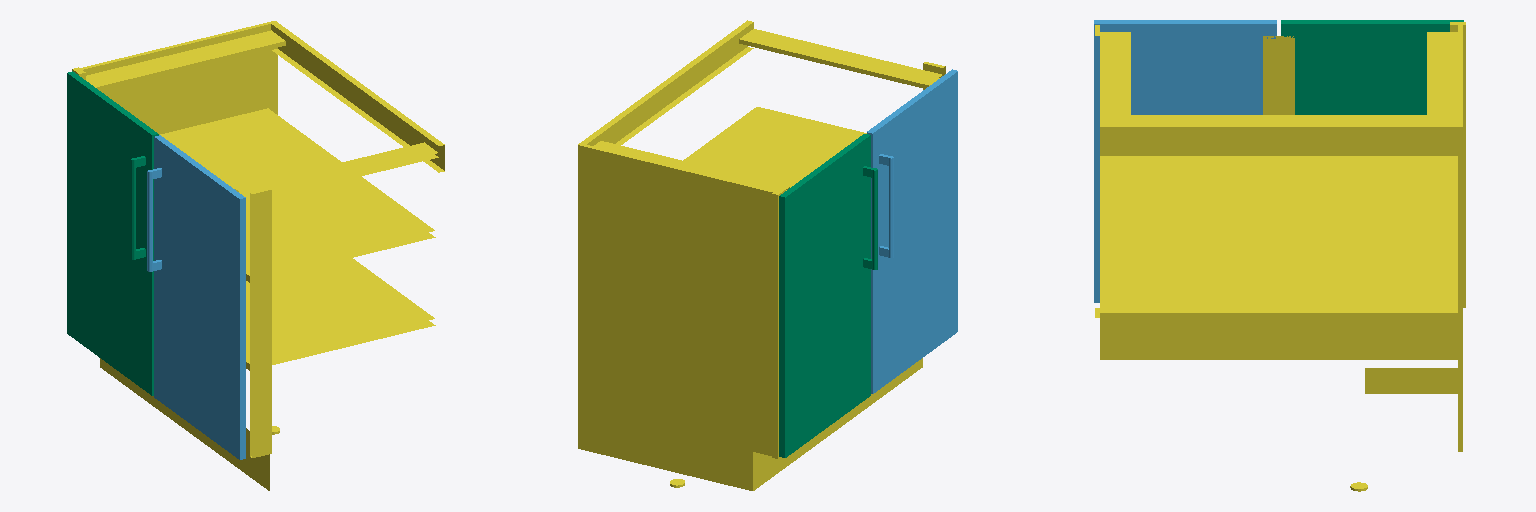
robot.urdf — partnet_1e25501b8930873129a50a2b3c5e5b6:
<?xml version="1.0" ?>
<robot name="partnet_1e25501b8930873129a50a2b3c5e5b6">
	<link name="base"/>
	<link name="link_0">
		<visual name="cabinet_door_surface-8">
			<origin xyz="-0.646305488550088 -0.6707149744033813 -0.4367456519129983"/>
			<geometry>
				<mesh filename="objects_description/45305/textured_objs/original-31.obj"/>
			</geometry>
		</visual>
		<visual name="handle-9">
			<origin xyz="-0.646305488550088 -0.6707149744033813 -0.4367456519129983"/>
			<geometry>
				<mesh filename="objects_description/45305/textured_objs/original-35.obj"/>
			</geometry>
		</visual>
		<visual name="handle-9">
			<origin xyz="-0.646305488550088 -0.6707149744033813 -0.4367456519129983"/>
			<geometry>
				<mesh filename="objects_description/45305/textured_objs/original-33.obj"/>
			</geometry>
		</visual>
		<visual name="handle-9">
			<origin xyz="-0.646305488550088 -0.6707149744033813 -0.4367456519129983"/>
			<geometry>
				<mesh filename="objects_description/45305/textured_objs/original-34.obj"/>
			</geometry>
		</visual>
		<collision>
			<origin xyz="-0.646305488550088 -0.6707149744033813 -0.4367456519129983"/>
			<geometry>
				<mesh filename="objects_description/45305/textured_objs/original-31.obj"/>
			</geometry>
		</collision>
		<collision>
			<origin xyz="-0.646305488550088 -0.6707149744033813 -0.4367456519129983"/>
			<geometry>
				<mesh filename="objects_description/45305/textured_objs/original-35.obj"/>
			</geometry>
		</collision>
		<collision>
			<origin xyz="-0.646305488550088 -0.6707149744033813 -0.4367456519129983"/>
			<geometry>
				<mesh filename="objects_description/45305/textured_objs/original-33.obj"/>
			</geometry>
		</collision>
		<collision>
			<origin xyz="-0.646305488550088 -0.6707149744033813 -0.4367456519129983"/>
			<geometry>
				<mesh filename="objects_description/45305/textured_objs/original-34.obj"/>
			</geometry>
		</collision>
	</link>
	<joint name="joint_0" type="revolute">
		<origin xyz="0.646305488550088 0.6707149744033813 0.4367456519129983"/>
		<axis xyz="0 1 0"/>
		<child link="link_0"/>
		<parent link="link_2"/>
		<limit lower="0.0" upper="1.5833626974092556"/>
	</joint>
	<link name="link_1">
		<visual name="cabinet_door_surface-6">
			<origin xyz="0.6158288327231765 0.3939580023288727 -0.4353039942218538"/>
			<geometry>
				<mesh filename="objects_description/45305/textured_objs/original-25.obj"/>
			</geometry>
		</visual>
		<visual name="handle-7">
			<origin xyz="0.6158288327231765 0.3939580023288727 -0.4353039942218538"/>
			<geometry>
				<mesh filename="objects_description/45305/textured_objs/original-27.obj"/>
			</geometry>
		</visual>
		<visual name="handle-7">
			<origin xyz="0.6158288327231765 0.3939580023288727 -0.4353039942218538"/>
			<geometry>
				<mesh filename="objects_description/45305/textured_objs/original-28.obj"/>
			</geometry>
		</visual>
		<visual name="handle-7">
			<origin xyz="0.6158288327231765 0.3939580023288727 -0.4353039942218538"/>
			<geometry>
				<mesh filename="objects_description/45305/textured_objs/original-29.obj"/>
			</geometry>
		</visual>
		<collision>
			<origin xyz="0.6158288327231765 0.3939580023288727 -0.4353039942218538"/>
			<geometry>
				<mesh filename="objects_description/45305/textured_objs/original-25.obj"/>
			</geometry>
		</collision>
		<collision>
			<origin xyz="0.6158288327231765 0.3939580023288727 -0.4353039942218538"/>
			<geometry>
				<mesh filename="objects_description/45305/textured_objs/original-27.obj"/>
			</geometry>
		</collision>
		<collision>
			<origin xyz="0.6158288327231765 0.3939580023288727 -0.4353039942218538"/>
			<geometry>
				<mesh filename="objects_description/45305/textured_objs/original-28.obj"/>
			</geometry>
		</collision>
		<collision>
			<origin xyz="0.6158288327231765 0.3939580023288727 -0.4353039942218538"/>
			<geometry>
				<mesh filename="objects_description/45305/textured_objs/original-29.obj"/>
			</geometry>
		</collision>
	</link>
	<joint name="joint_1" type="revolute">
		<origin xyz="-0.6158288327231765 -0.3939580023288727 0.4353039942218538"/>
		<axis xyz="0 -1 0"/>
		<child link="link_1"/>
		<parent link="link_2"/>
		<limit lower="0.0" upper="1.5833626974092556"/>
	</joint>
	<link name="link_2">
		<visual name="vertical_side_panel-15">
			<origin xyz="0 0 0"/>
			<geometry>
				<mesh filename="objects_description/45305/textured_objs/original-9.obj"/>
			</geometry>
		</visual>
		<visual name="vertical_side_panel-16">
			<origin xyz="0 0 0"/>
			<geometry>
				<mesh filename="objects_description/45305/textured_objs/original-21.obj"/>
			</geometry>
		</visual>
		<visual name="back_panel-17">
			<origin xyz="0 0 0"/>
			<geometry>
				<mesh filename="objects_description/45305/textured_objs/original-16.obj"/>
			</geometry>
		</visual>
		<visual name="bottom_panel-18">
			<origin xyz="0 0 0"/>
			<geometry>
				<mesh filename="objects_description/45305/textured_objs/original-12.obj"/>
			</geometry>
		</visual>
		<visual name="frame_vertical_bar-19">
			<origin xyz="0 0 0"/>
			<geometry>
				<mesh filename="objects_description/45305/textured_objs/original-2.obj"/>
			</geometry>
		</visual>
		<visual name="frame_vertical_bar-20">
			<origin xyz="0 0 0"/>
			<geometry>
				<mesh filename="objects_description/45305/textured_objs/original-4.obj"/>
			</geometry>
		</visual>
		<visual name="frame_vertical_bar-21">
			<origin xyz="0 0 0"/>
			<geometry>
				<mesh filename="objects_description/45305/textured_objs/original-6.obj"/>
			</geometry>
		</visual>
		<visual name="frame_horizontal_bar-22">
			<origin xyz="0 0 0"/>
			<geometry>
				<mesh filename="objects_description/45305/textured_objs/original-15.obj"/>
			</geometry>
		</visual>
		<visual name="frame_horizontal_bar-23">
			<origin xyz="0 0 0"/>
			<geometry>
				<mesh filename="objects_description/45305/textured_objs/original-5.obj"/>
			</geometry>
		</visual>
		<visual name="frame_horizontal_bar-24">
			<origin xyz="0 0 0"/>
			<geometry>
				<mesh filename="objects_description/45305/textured_objs/original-3.obj"/>
			</geometry>
		</visual>
		<visual name="other_leaf-32">
			<origin xyz="0 0 0"/>
			<geometry>
				<mesh filename="objects_description/45305/textured_objs/original-13.obj"/>
			</geometry>
		</visual>
		<visual name="other_leaf-31">
			<origin xyz="0 0 0"/>
			<geometry>
				<mesh filename="objects_description/45305/textured_objs/original-17.obj"/>
			</geometry>
		</visual>
		<visual name="other_leaf-30">
			<origin xyz="0 0 0"/>
			<geometry>
				<mesh filename="objects_description/45305/textured_objs/original-23.obj"/>
			</geometry>
		</visual>
		<visual name="other_leaf-29">
			<origin xyz="0 0 0"/>
			<geometry>
				<mesh filename="objects_description/45305/textured_objs/original-14.obj"/>
			</geometry>
		</visual>
		<visual name="frame_vertical_bar-33">
			<origin xyz="0 0 0"/>
			<geometry>
				<mesh filename="objects_description/45305/textured_objs/original-20.obj"/>
			</geometry>
		</visual>
		<visual name="frame_vertical_bar-34">
			<origin xyz="0 0 0"/>
			<geometry>
				<mesh filename="objects_description/45305/textured_objs/original-8.obj"/>
			</geometry>
		</visual>
		<visual name="other_leaf-36">
			<origin xyz="0 0 0"/>
			<geometry>
				<mesh filename="objects_description/45305/textured_objs/original-36.obj"/>
			</geometry>
		</visual>
		<visual name="base_side_panel-11">
			<origin xyz="0 0 0"/>
			<geometry>
				<mesh filename="objects_description/45305/textured_objs/original-22.obj"/>
			</geometry>
		</visual>
		<visual name="base_side_panel-12">
			<origin xyz="0 0 0"/>
			<geometry>
				<mesh filename="objects_description/45305/textured_objs/original-18.obj"/>
			</geometry>
		</visual>
		<visual name="base_side_panel-13">
			<origin xyz="0 0 0"/>
			<geometry>
				<mesh filename="objects_description/45305/textured_objs/original-10.obj"/>
			</geometry>
		</visual>
		<visual name="base_side_panel-14">
			<origin xyz="0 0 0"/>
			<geometry>
				<mesh filename="objects_description/45305/textured_objs/original-11.obj"/>
			</geometry>
		</visual>
		<collision>
			<origin xyz="0 0 0"/>
			<geometry>
				<mesh filename="objects_description/45305/textured_objs/original-9.obj"/>
			</geometry>
		</collision>
		<collision>
			<origin xyz="0 0 0"/>
			<geometry>
				<mesh filename="objects_description/45305/textured_objs/original-21.obj"/>
			</geometry>
		</collision>
		<collision>
			<origin xyz="0 0 0"/>
			<geometry>
				<mesh filename="objects_description/45305/textured_objs/original-16.obj"/>
			</geometry>
		</collision>
		<collision>
			<origin xyz="0 0 0"/>
			<geometry>
				<mesh filename="objects_description/45305/textured_objs/original-12.obj"/>
			</geometry>
		</collision>
		<collision>
			<origin xyz="0 0 0"/>
			<geometry>
				<mesh filename="objects_description/45305/textured_objs/original-2.obj"/>
			</geometry>
		</collision>
		<collision>
			<origin xyz="0 0 0"/>
			<geometry>
				<mesh filename="objects_description/45305/textured_objs/original-4.obj"/>
			</geometry>
		</collision>
		<collision>
			<origin xyz="0 0 0"/>
			<geometry>
				<mesh filename="objects_description/45305/textured_objs/original-6.obj"/>
			</geometry>
		</collision>
		<collision>
			<origin xyz="0 0 0"/>
			<geometry>
				<mesh filename="objects_description/45305/textured_objs/original-15.obj"/>
			</geometry>
		</collision>
		<collision>
			<origin xyz="0 0 0"/>
			<geometry>
				<mesh filename="objects_description/45305/textured_objs/original-5.obj"/>
			</geometry>
		</collision>
		<collision>
			<origin xyz="0 0 0"/>
			<geometry>
				<mesh filename="objects_description/45305/textured_objs/original-3.obj"/>
			</geometry>
		</collision>
		<collision>
			<origin xyz="0 0 0"/>
			<geometry>
				<mesh filename="objects_description/45305/textured_objs/original-13.obj"/>
			</geometry>
		</collision>
		<collision>
			<origin xyz="0 0 0"/>
			<geometry>
				<mesh filename="objects_description/45305/textured_objs/original-17.obj"/>
			</geometry>
		</collision>
		<collision>
			<origin xyz="0 0 0"/>
			<geometry>
				<mesh filename="objects_description/45305/textured_objs/original-23.obj"/>
			</geometry>
		</collision>
		<collision>
			<origin xyz="0 0 0"/>
			<geometry>
				<mesh filename="objects_description/45305/textured_objs/original-14.obj"/>
			</geometry>
		</collision>
		<collision>
			<origin xyz="0 0 0"/>
			<geometry>
				<mesh filename="objects_description/45305/textured_objs/original-20.obj"/>
			</geometry>
		</collision>
		<collision>
			<origin xyz="0 0 0"/>
			<geometry>
				<mesh filename="objects_description/45305/textured_objs/original-8.obj"/>
			</geometry>
		</collision>
		<collision>
			<origin xyz="0 0 0"/>
			<geometry>
				<mesh filename="objects_description/45305/textured_objs/original-36.obj"/>
			</geometry>
		</collision>
		<collision>
			<origin xyz="0 0 0"/>
			<geometry>
				<mesh filename="objects_description/45305/textured_objs/original-22.obj"/>
			</geometry>
		</collision>
		<collision>
			<origin xyz="0 0 0"/>
			<geometry>
				<mesh filename="objects_description/45305/textured_objs/original-18.obj"/>
			</geometry>
		</collision>
		<collision>
			<origin xyz="0 0 0"/>
			<geometry>
				<mesh filename="objects_description/45305/textured_objs/original-10.obj"/>
			</geometry>
		</collision>
		<collision>
			<origin xyz="0 0 0"/>
			<geometry>
				<mesh filename="objects_description/45305/textured_objs/original-11.obj"/>
			</geometry>
		</collision>
	</link>
	<joint name="joint_2" type="fixed">
		<origin rpy="1.570796326794897 0 -1.570796326794897" xyz="0 0 0"/>
		<child link="link_2"/>
		<parent link="base"/>
	</joint>
</robot>

--- Facts derived from the render (not from the file) ---
3 views of the same robot in one strip: view 1: azimuth 30°, elevation 25°; view 2: azimuth 150°, elevation 25°; view 3: azimuth 270°, elevation 25° (orthographic).
Model partnet_1e25501b8930873129a50a2b3c5e5b6 with 4 links and 3 joints (2 revolute, 1 fixed), rooted at base, posed every joint at zero.
Links seen in each view (by area): view 1: link_2, link_0, link_1; view 2: link_2, link_1, link_0; view 3: link_2, link_0, link_1.
Link boxes in pixels (x1,y1,x2,y2): link_2: (72,21,444,490); link_0: (147,135,245,459); link_1: (67,71,158,395); link_2: (578,20,945,490); link_1: (779,134,877,457); link_0: (867,69,957,393); link_2: (1095,22,1465,491); link_0: (1094,20,1276,302); link_1: (1281,20,1463,114).
Size in the robot's own frame: 0.9996 by 1.36 by 1.56 metres.
Meshes: 29 distinct files referenced, 22 mesh visuals loaded (22 OBJ); not drawn: 7 (reference not matched to a file when rendering).